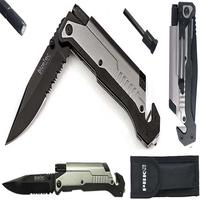knife: (6, 1, 150, 150), (2, 3, 94, 152), (1, 160, 126, 198)
